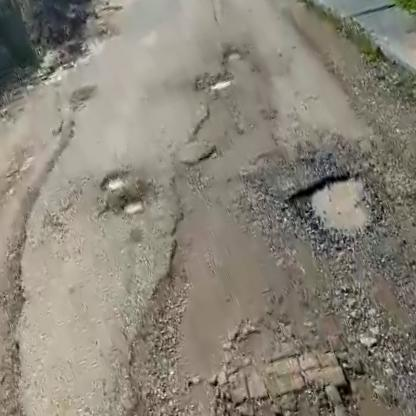pothole: (283, 163, 389, 260), (97, 165, 133, 196), (206, 71, 236, 96), (120, 194, 148, 218), (221, 46, 245, 67)
